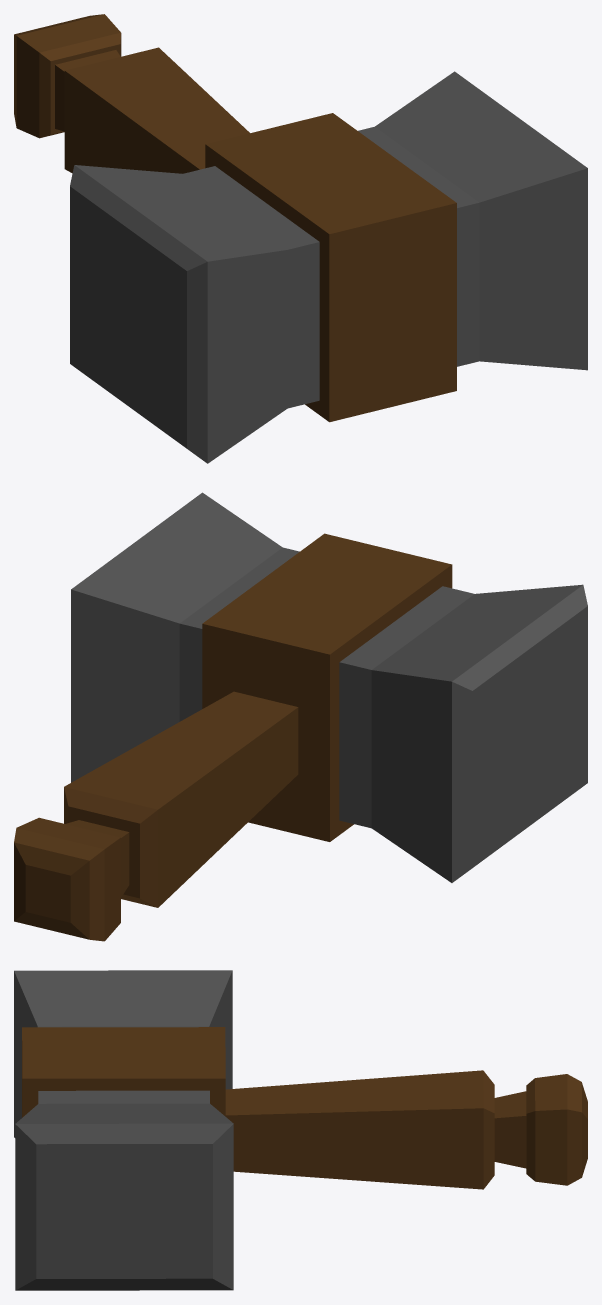
The model's file is F_Hammer_A.fbx.
3 renders of one model, top to bottom at view 1: azimuth 30°, elevation 25°; view 2: azimuth 150°, elevation 25°; view 3: azimuth 270°, elevation 25°, orthographic. The views are drawn at different scales.
Visible parts, largest first — view 1: F_Hammer_A; view 2: F_Hammer_A; view 3: F_Hammer_A.
Part boxes in pixels (box(x1,y1,x2,y2)): F_Hammer_A: box(14, 14, 587, 463); F_Hammer_A: box(14, 492, 587, 941); F_Hammer_A: box(14, 970, 587, 1290).
Size of the model in its own units: 47.55 by 22.68 by 70.77.
